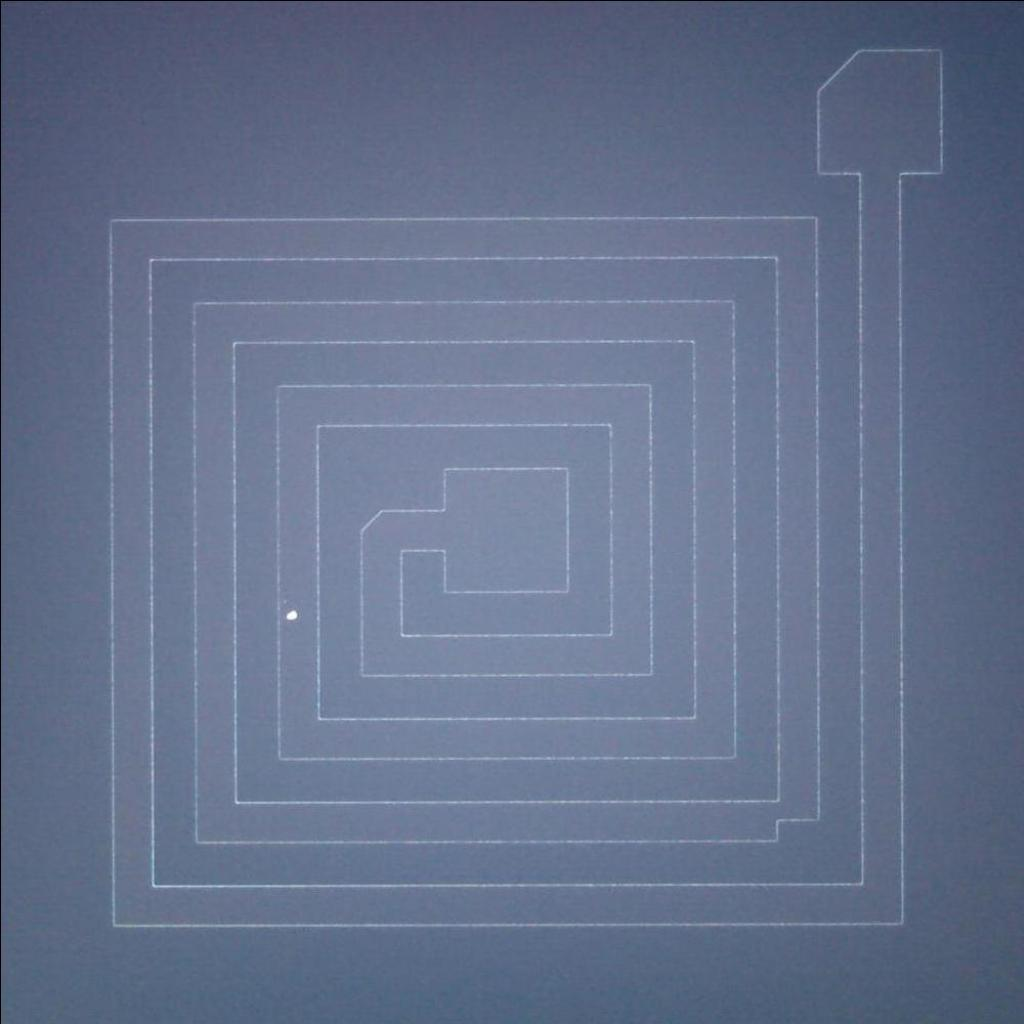edge circuit: (804, 38, 867, 95), (762, 809, 821, 851), (345, 497, 396, 544)
spot: (281, 606, 301, 627)
